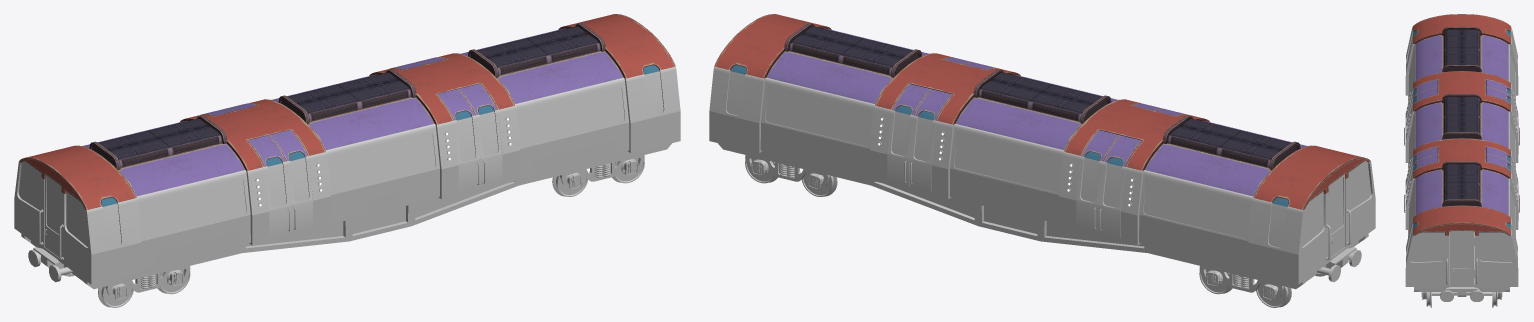
Rendered from ВАГОН_РЕСТОРАН.fbx.
The picture shows the model from 3 angles, left to right: view 1: azimuth 30°, elevation 25°; view 2: azimuth 150°, elevation 25°; view 3: azimuth 270°, elevation 25°; orthographic projection. The views are drawn at different scales.
Visible parts, largest first — view 1: КОРПУС, КРЫША, ПЛАТФОРМА, ДВЕРЬ РАЗДВИЖ.Н, ДВЕРЬ РАЗДВИЖ.Н.003, ДВЕРЬ РАЗДВИЖ.Н.001, ДВЕРЬ РАЗДВИЖ.Н.002, ДВЕРЬ З., ДВЕРЬ РАЗДВИЖ.В.003, ДВЕРЬ РАЗДВИЖ.В, ДВЕРЬ РАЗДВИЖ.В.002, ДВЕРЬ РАЗДВИЖ.В.001; view 2: КОРПУС, КРЫША, ПЛАТФОРМА, ДВЕРЬ РАЗДВИЖ.Н.005, ДВЕРЬ РАЗДВИЖ.Н.007, ДВЕРЬ РАЗДВИЖ.Н.004, ДВЕРЬ РАЗДВИЖ.Н.006, ДВЕРЬ З., ДВЕРЬ РАЗДВИЖ.В.007, ДВЕРЬ РАЗДВИЖ.В.005, ДВЕРЬ РАЗДВИЖ.В.004, ДВЕРЬ РАЗДВИЖ.В.006; view 3: КРЫША, КОРПУС, ДВЕРЬ П., ПЛАТФОРМА, ДВЕРЬ РАЗДВИЖ.В.004, ДВЕРЬ РАЗДВИЖ.В.006, ДВЕРЬ РАЗДВИЖ.В.007, ДВЕРЬ РАЗДВИЖ.В.005, ДВЕРЬ РАЗДВИЖ.В.001, ДВЕРЬ РАЗДВИЖ.В, ДВЕРЬ РАЗДВИЖ.В.003, ДВЕРЬ РАЗДВИЖ.В.002 (+5 smaller).
Part boxes in pixels (<box>): КОРПУС: <box>14,29,680,284</box>; КРЫША: <box>19,14,675,210</box>; ПЛАТФОРМА: <box>21,143,671,307</box>; ДВЕРЬ РАЗДВИЖ.Н: <box>475,110,502,186</box>; ДВЕРЬ РАЗДВИЖ.Н.003: <box>264,161,291,237</box>; ДВЕРЬ РАЗДВИЖ.Н.001: <box>454,115,480,191</box>; ДВЕРЬ РАЗДВИЖ.Н.002: <box>286,156,312,232</box>; ДВЕРЬ З.: <box>44,174,61,257</box>; ДВЕРЬ РАЗДВИЖ.В.003: <box>247,135,286,166</box>; ДВЕРЬ РАЗДВИЖ.В: <box>458,83,497,115</box>; ДВЕРЬ РАЗДВИЖ.В.002: <box>269,129,307,161</box>; ДВЕРЬ РАЗДВИЖ.В.001: <box>437,89,475,120</box>; КОРПУС: <box>709,29,1375,284</box>; КРЫША: <box>714,14,1370,210</box>; ПЛАТФОРМА: <box>718,143,1368,307</box>; ДВЕРЬ РАЗДВИЖ.Н.005: <box>909,115,935,191</box>; ДВЕРЬ РАЗДВИЖ.Н.007: <box>1098,162,1125,238</box>; ДВЕРЬ РАЗДВИЖ.Н.004: <box>887,110,913,186</box>; ДВЕРЬ РАЗДВИЖ.Н.006: <box>1076,156,1102,232</box>; ДВЕРЬ З.: <box>1328,174,1345,257</box>; ДВЕРЬ РАЗДВИЖ.В.007: <box>1103,135,1142,166</box>; ДВЕРЬ РАЗДВИЖ.В.005: <box>914,89,952,120</box>; ДВЕРЬ РАЗДВИЖ.В.004: <box>892,83,930,115</box>; ДВЕРЬ РАЗДВИЖ.В.006: <box>1081,130,1120,161</box>; КРЫША: <box>1413,14,1510,235</box>; КОРПУС: <box>1405,26,1518,286</box>; ДВЕРЬ П.: <box>1449,231,1474,284</box>; ПЛАТФОРМА: <box>1414,287,1509,307</box>; ДВЕРЬ РАЗДВИЖ.В.004: <box>1486,154,1511,171</box>; ДВЕРЬ РАЗДВИЖ.В.006: <box>1486,87,1511,104</box>; ДВЕРЬ РАЗДВИЖ.В.007: <box>1486,79,1511,96</box>; ДВЕРЬ РАЗДВИЖ.В.005: <box>1486,146,1511,163</box>; ДВЕРЬ РАЗДВИЖ.В.001: <box>1413,146,1437,163</box>; ДВЕРЬ РАЗДВИЖ.В: <box>1413,154,1437,171</box>; ДВЕРЬ РАЗДВИЖ.В.003: <box>1413,79,1437,96</box>; ДВЕРЬ РАЗДВИЖ.В.002: <box>1413,87,1437,104</box>.
Bounding box in the file's own units: 2601 × 567 × 587.
